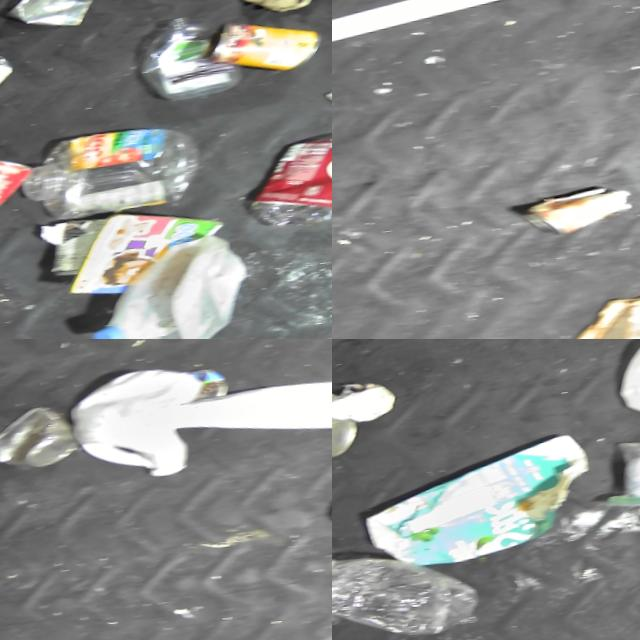can: (199, 13, 328, 90), (0, 398, 84, 477), (521, 188, 635, 246), (2, 0, 104, 39), (0, 150, 41, 224), (332, 401, 363, 468)
milk_jug: (84, 232, 256, 339), (63, 363, 201, 492)
plastic_bottle: (332, 513, 489, 640)
